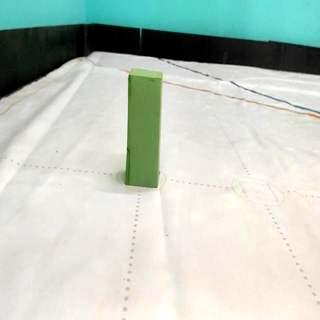greenbox: (125, 66, 165, 189)
